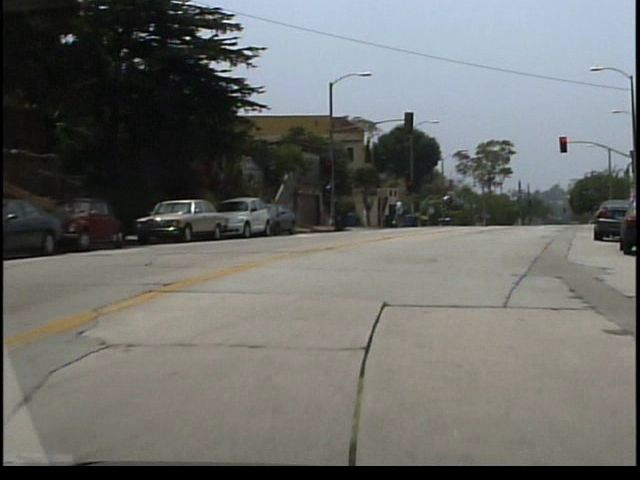person: (395, 199, 407, 231), (364, 205, 372, 230)
